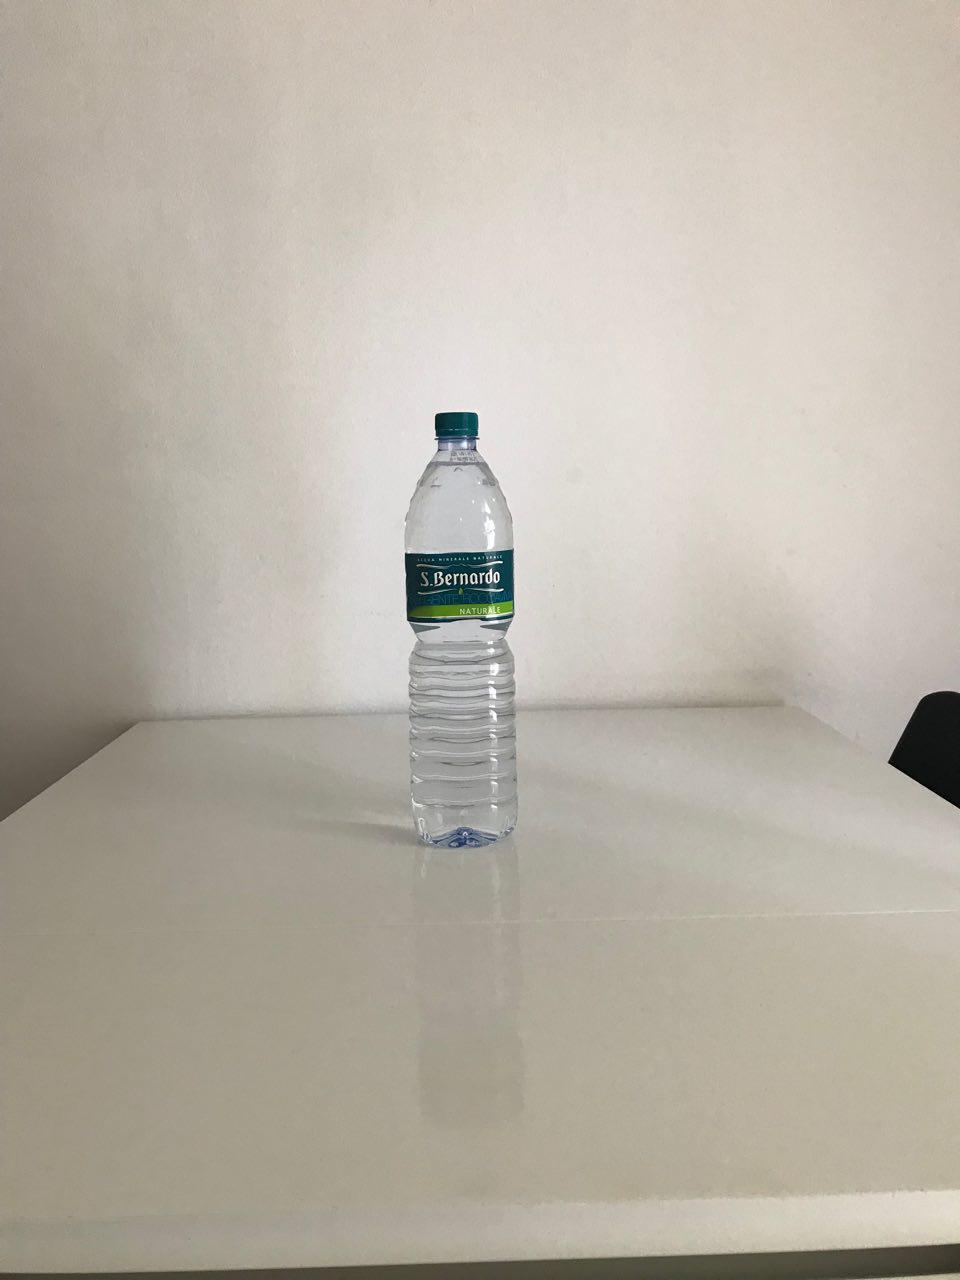san_bernardo: (402, 410, 521, 852)
